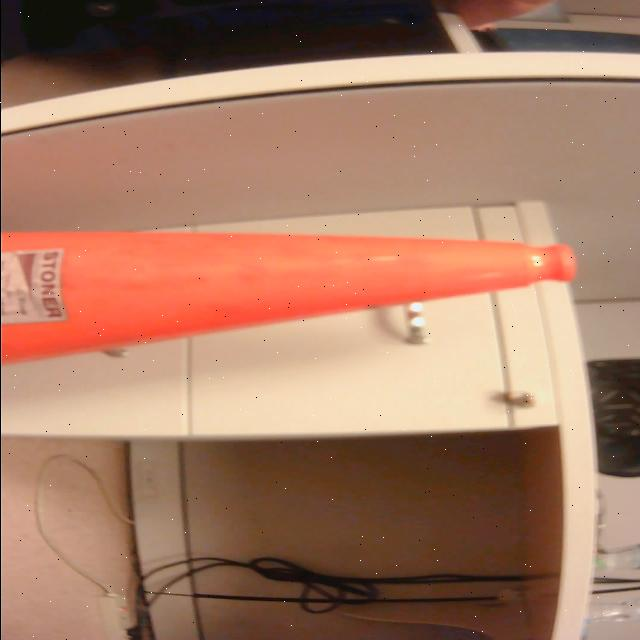traffic cone: (1, 211, 584, 405)
